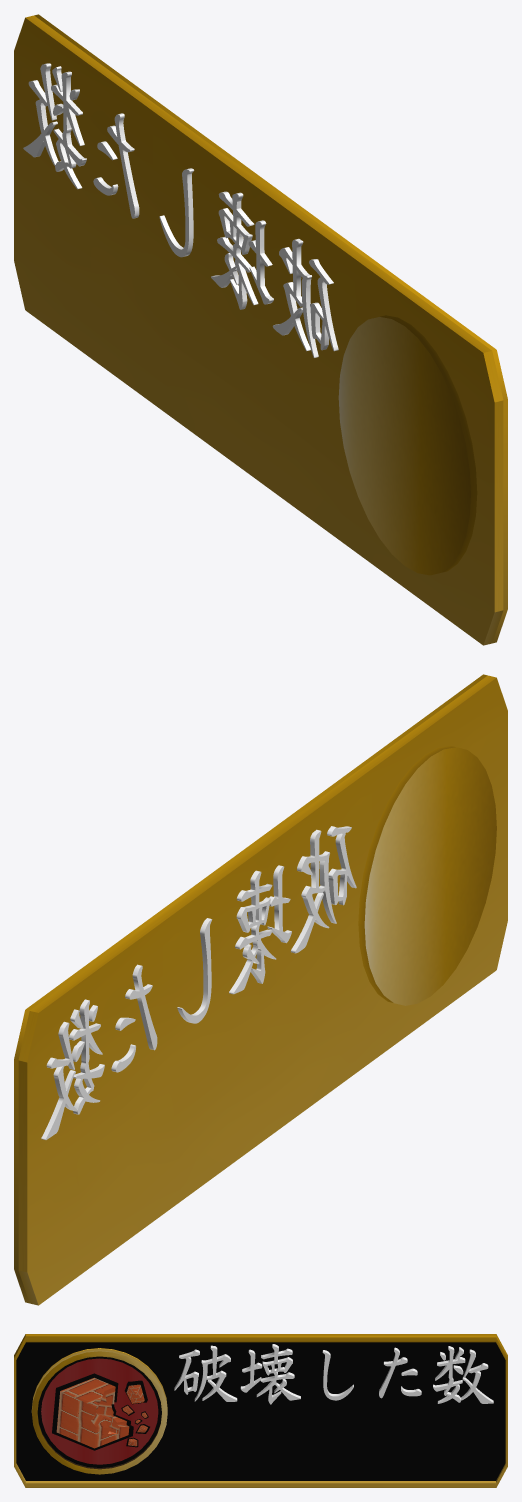
3 renders of one model, top to bottom at view 1: azimuth 30°, elevation 25°; view 2: azimuth 150°, elevation 25°; view 3: azimuth 270°, elevation 25°, orthographic. The views are drawn at different scales.
Visible parts, largest first — view 1: Cube.001, 立方体.006, テキスト.008; view 2: Cube.001, 立方体.006, テキスト.008; view 3: Cube.001, 立方体.006, テキスト.008.
Part boxes in pixels (x1,y1,x2,y2): Cube.001: [14, 14, 507, 645]; 立方体.006: [338, 315, 477, 575]; テキスト.008: [23, 63, 338, 357]; Cube.001: [14, 674, 507, 1305]; 立方体.006: [358, 745, 496, 1005]; テキスト.008: [41, 826, 356, 1139]; Cube.001: [14, 1334, 507, 1487]; 立方体.006: [31, 1348, 167, 1474]; テキスト.008: [174, 1344, 493, 1404].
Bounding box in the file's own units: 0.3813 × 2.89 × 8.6.
3 materials, 3 textured.
